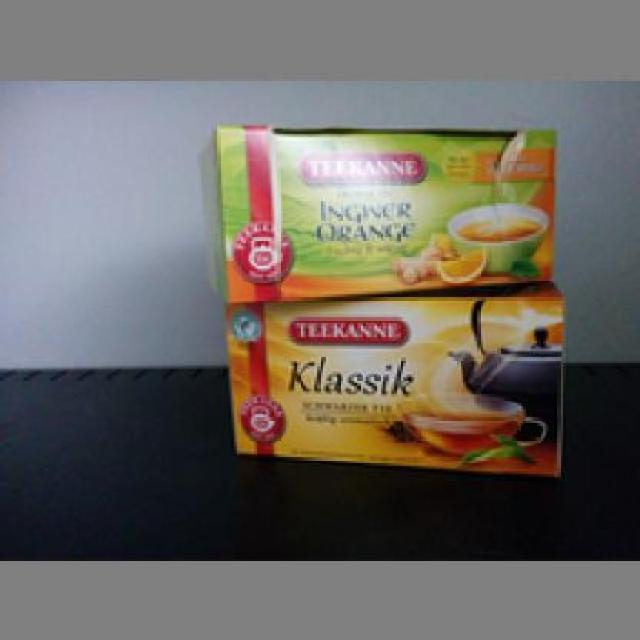Tea: (220, 292, 566, 478), (206, 123, 563, 300)
